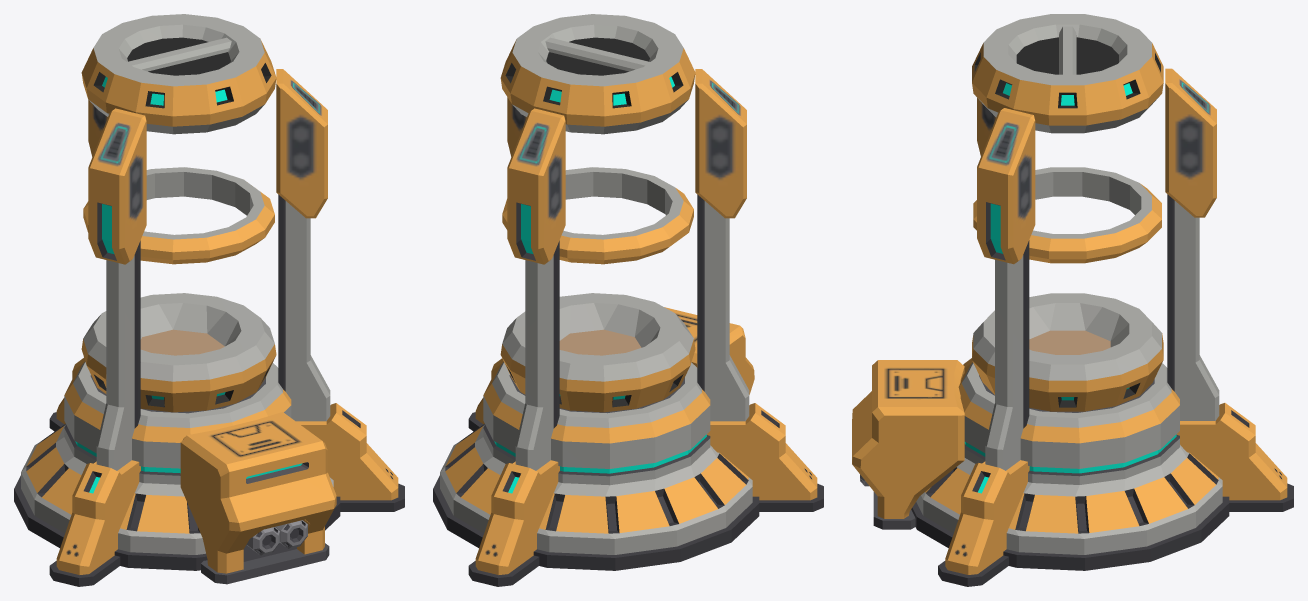
File: worlds_SM_Bld_Corp_Containment_01.gltf
The picture shows the model from 3 angles, left to right: view 1: azimuth 30°, elevation 25°; view 2: azimuth 150°, elevation 25°; view 3: azimuth 270°, elevation 25°; orthographic projection.
Parts seen in each view (by area): view 1: SM_Bld_Corp_Containment_01; view 2: SM_Bld_Corp_Containment_01; view 3: SM_Bld_Corp_Containment_01.
Part boxes in pixels (<box>): SM_Bld_Corp_Containment_01: <box>14,14,404,586</box>; SM_Bld_Corp_Containment_01: <box>433,14,823,586</box>; SM_Bld_Corp_Containment_01: <box>852,14,1293,586</box>.
Bounding box in the file's own units: 3.72 × 4.56 × 4.04.
Materials: 2 (2 with a texture image).
